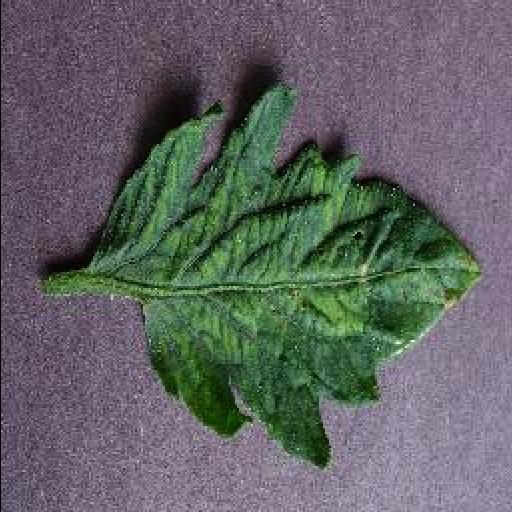Mosaic Virus: (88, 80, 484, 470)
